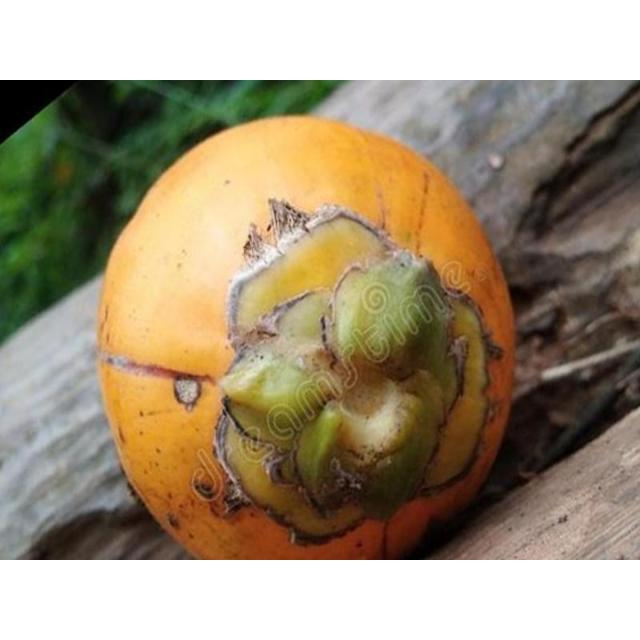good: (92, 115, 517, 559)
